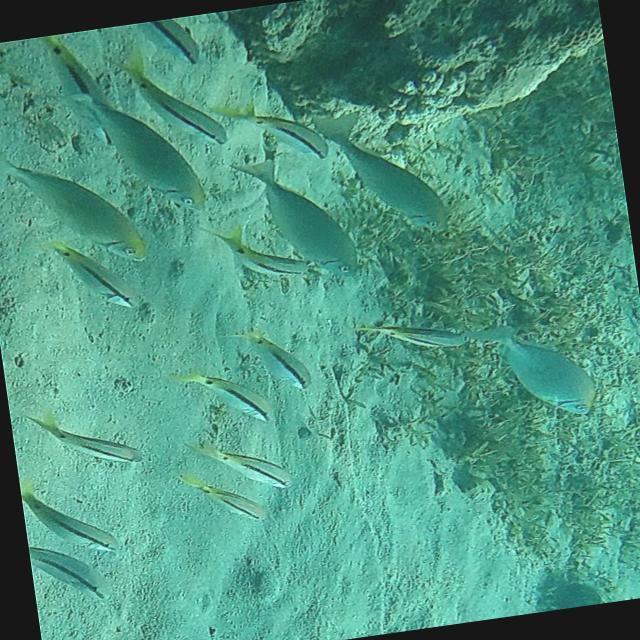Sokar Baligi: (311, 86, 465, 256), (457, 296, 607, 439), (17, 400, 154, 480)
